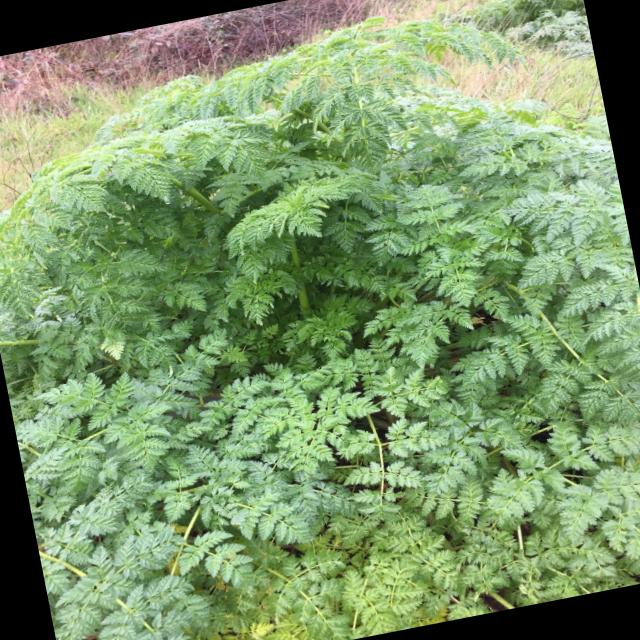Poisonous-Hemlock: (89, 81, 542, 366), (312, 281, 640, 636), (7, 335, 325, 640)
